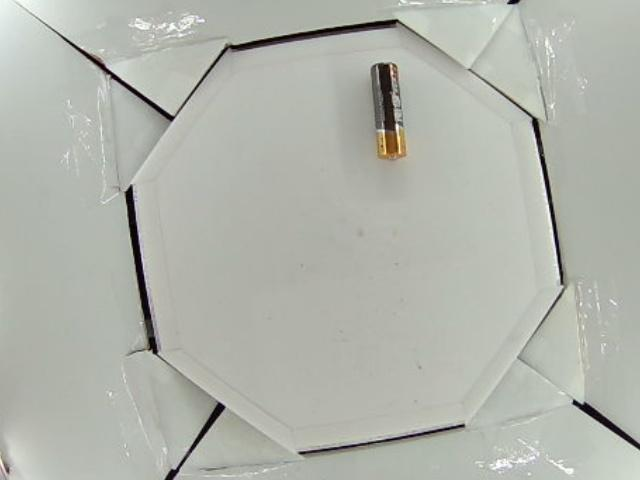Battery: (370, 61, 407, 161)
